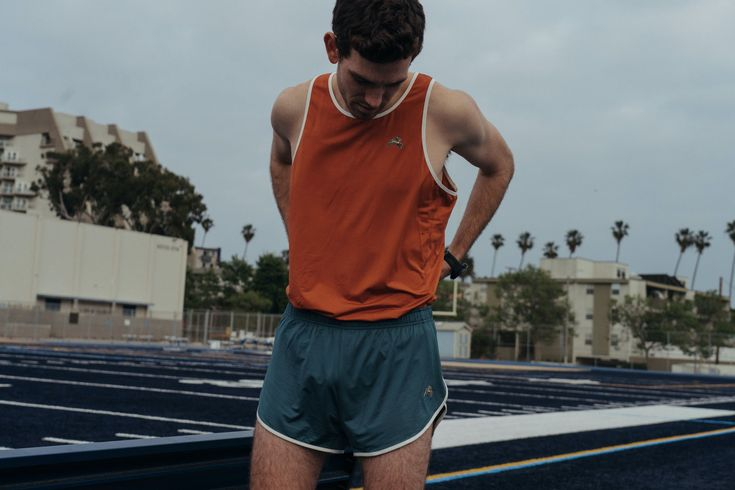egg: (73, 49, 661, 441)
